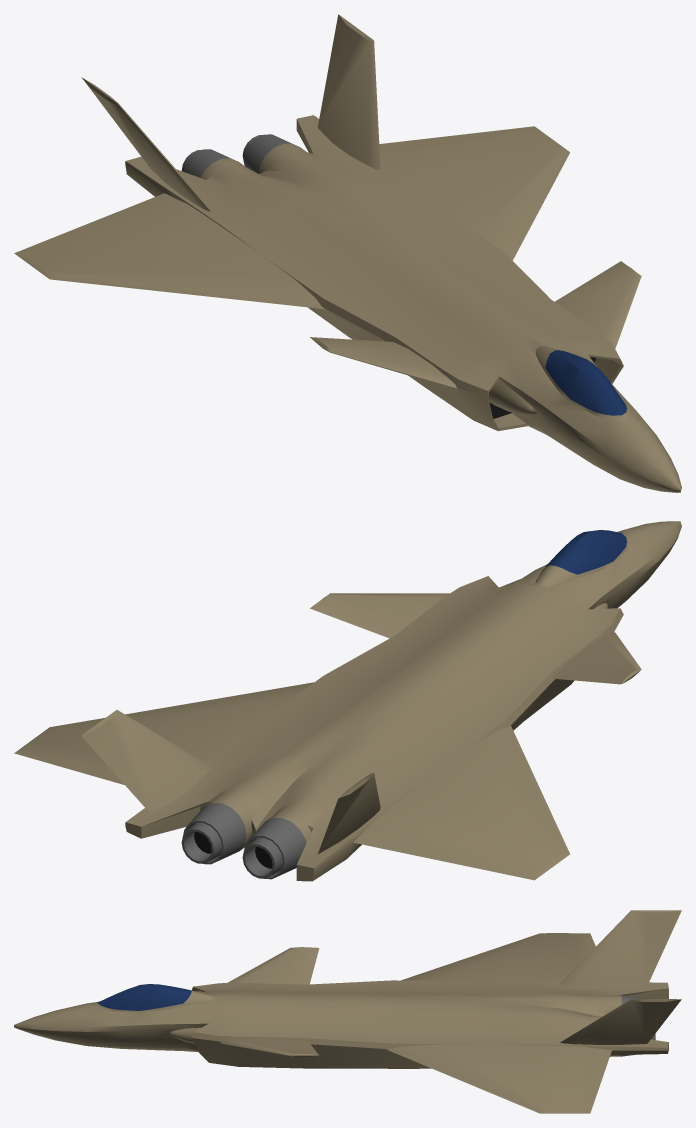
3 renders of one model, top to bottom at view 1: azimuth 30°, elevation 25°; view 2: azimuth 150°, elevation 25°; view 3: azimuth 270°, elevation 25°, orthographic. The views are drawn at different scales.
Visible parts, largest first — view 1: Chengdu_J_20.001; view 2: Chengdu_J_20.001; view 3: Chengdu_J_20.001.
Part boxes in pixels (x1,y1,x2,y2): Chengdu_J_20.001: [14, 14, 681, 492]; Chengdu_J_20.001: [14, 521, 681, 881]; Chengdu_J_20.001: [14, 910, 681, 1113].
Bounding box in the file's own units: 13.02 × 3.27 × 20.41.
